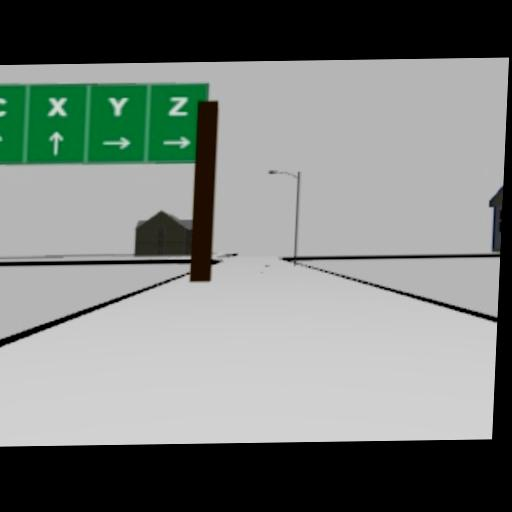C: (0, 97, 8, 117)
Right: (101, 136, 132, 150), (161, 136, 192, 149)
Straight: (48, 130, 64, 154), (0, 131, 2, 154)
X: (47, 96, 68, 116)
Y: (106, 96, 129, 116)
Z: (168, 95, 191, 115)
